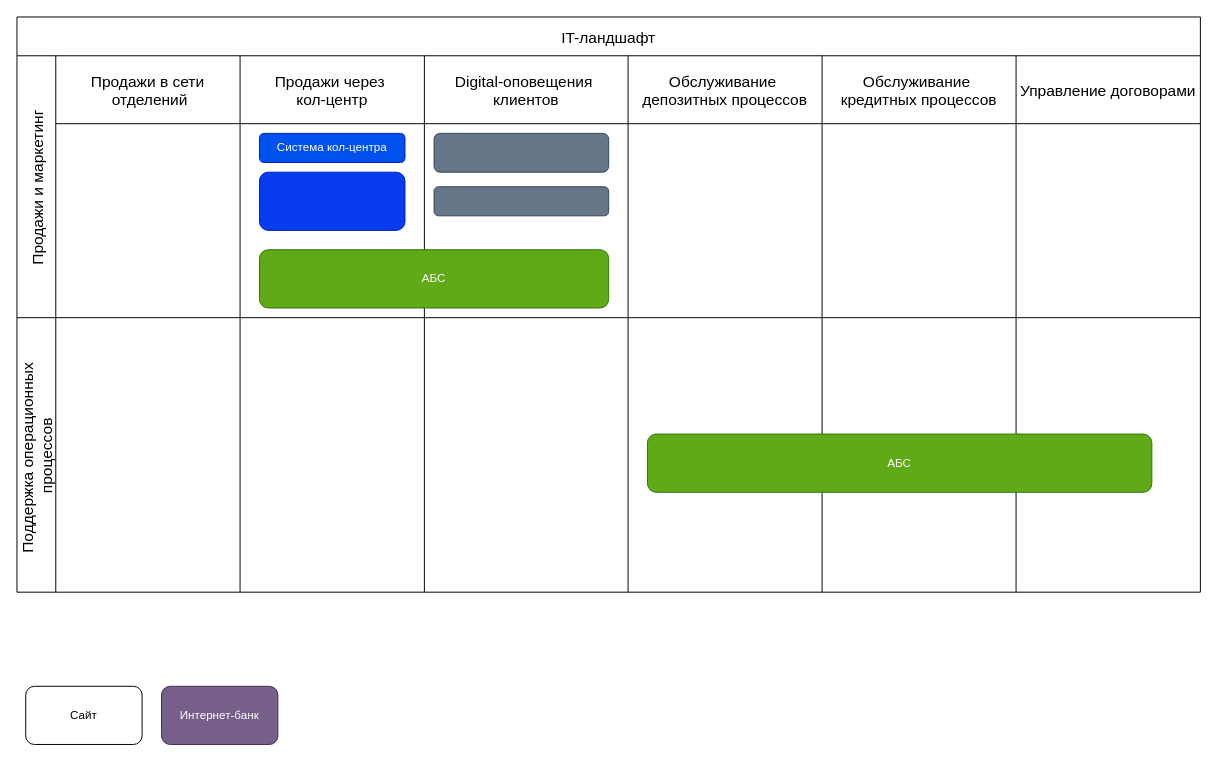
This 1217x761 diagram has some shape labels left out. Each missing label, with the centre of its shape:
"Система партнёрского кол-центра" belongs at (332,200).
"СМС-шлюз телеком-оператора" belongs at (521,201).
"Телеком-оператор" belongs at (521,152).
